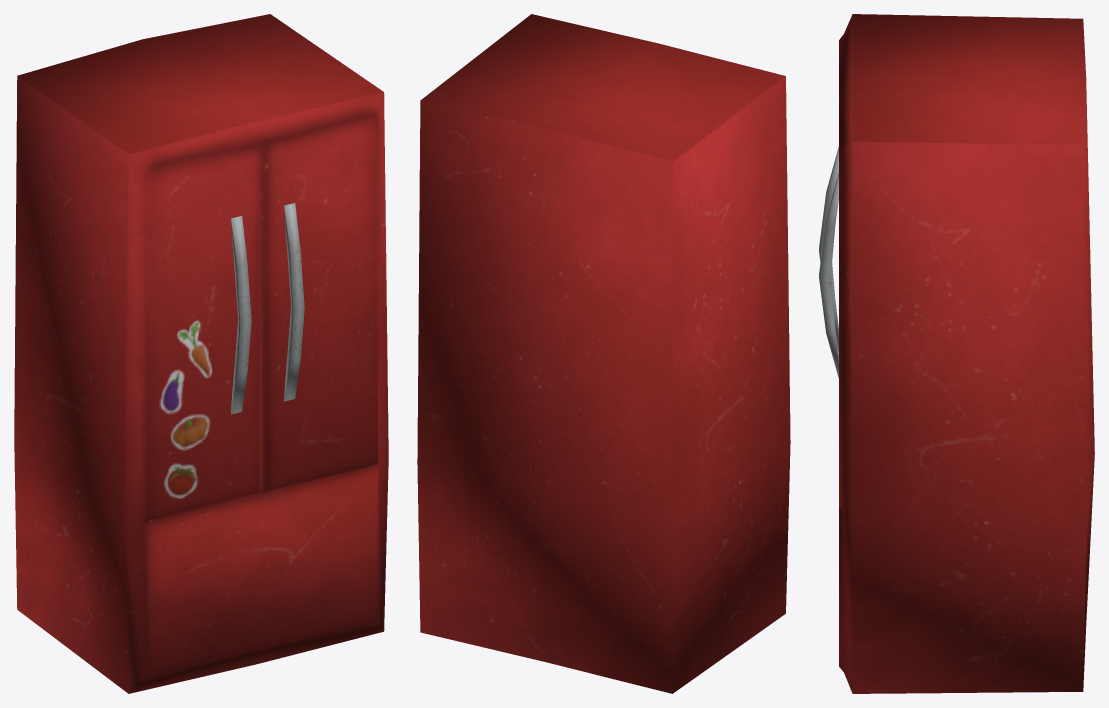
File: Geladeira.fbx
3 renders of one model, left to right at view 1: azimuth 30°, elevation 25°; view 2: azimuth 150°, elevation 25°; view 3: azimuth 270°, elevation 25°, orthographic. The views are drawn at different scales.
Visible parts, largest first — view 1: Geladeira; view 2: Geladeira; view 3: Geladeira.
Part boxes in pixels (<box>): Geladeira: <box>14,14,388,693</box>; Geladeira: <box>417,14,790,693</box>; Geladeira: <box>819,14,1094,693</box>.
Size of the model in its own units: 99.72 by 195 by 87.91.
